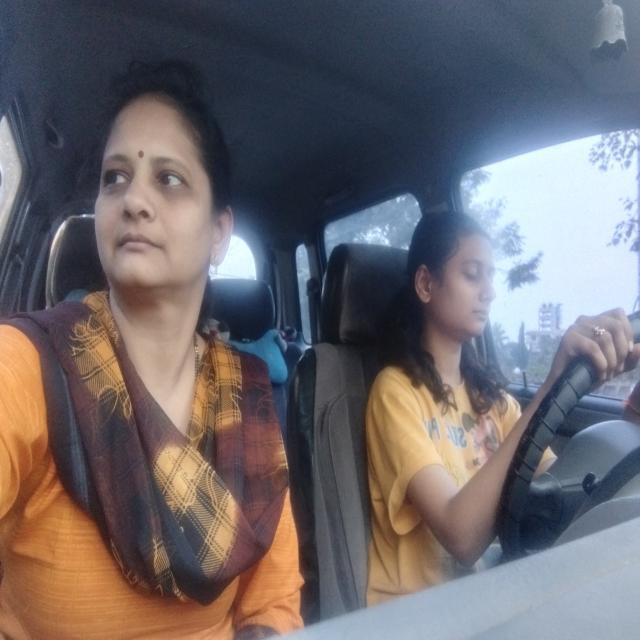drowsy: (406, 204, 501, 375)
person: (93, 79, 236, 345)
